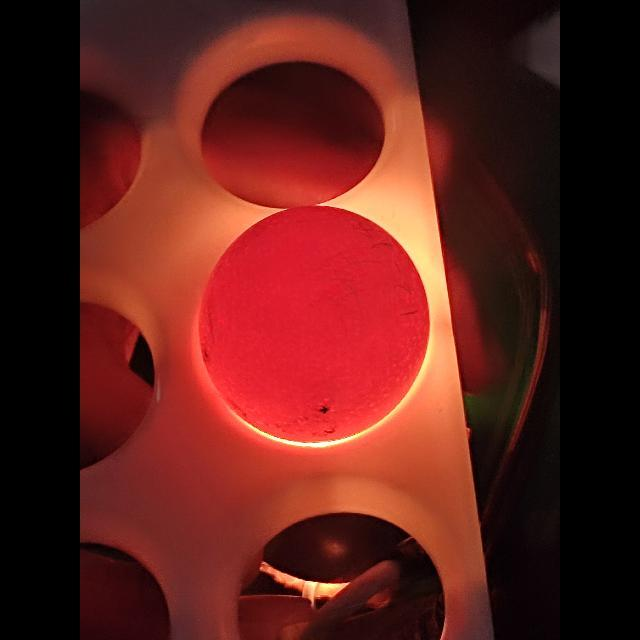Infertile: (202, 206, 430, 447)
